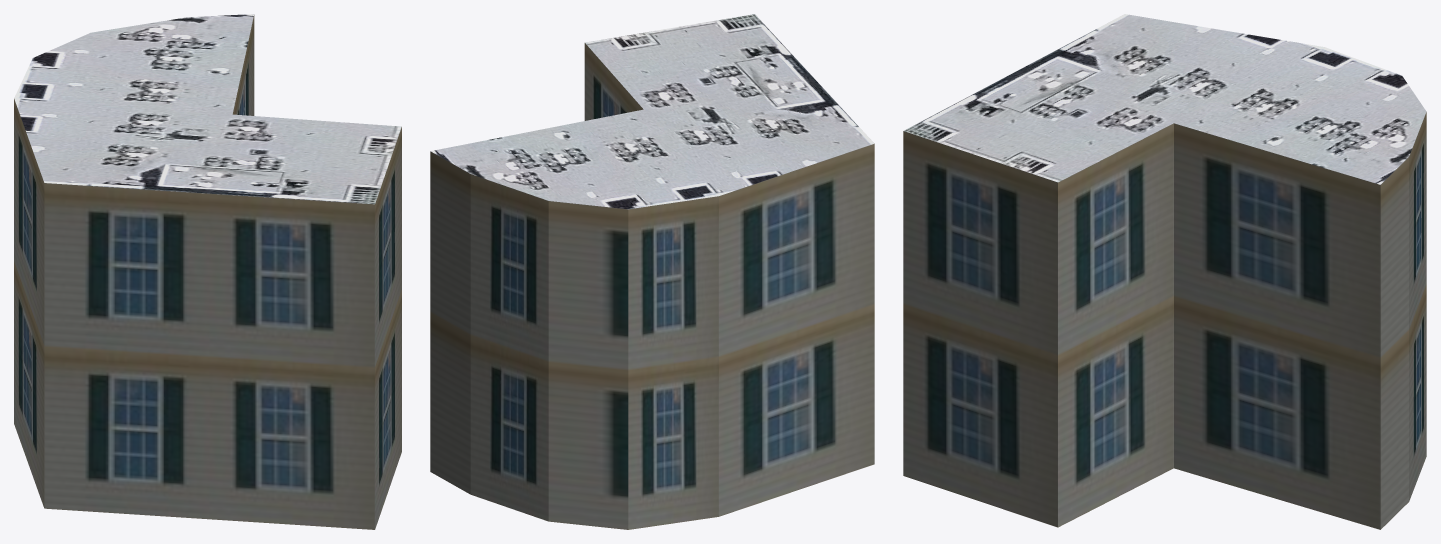
The model's file is ResTex__4326.fbx.
3 views of the same model, side by side, from view 1: azimuth 30°, elevation 25°; view 2: azimuth 150°, elevation 25°; view 3: azimuth 270°, elevation 25° (orthographic). The views are drawn at different scales.
Parts seen in each view (by area): view 1: CityEngineMaterial_7_m, CityEngineMaterial_m; view 2: CityEngineMaterial_7_m, CityEngineMaterial_m; view 3: CityEngineMaterial_7_m, CityEngineMaterial_m.
Part boxes in pixels (left/top/right/bottom): CityEngineMaterial_7_m: left=14, top=15, right=401, bottom=529; CityEngineMaterial_m: left=14, top=14, right=401, bottom=204; CityEngineMaterial_7_m: left=430, top=43, right=874, bottom=529; CityEngineMaterial_m: left=430, top=14, right=874, bottom=209; CityEngineMaterial_7_m: left=903, top=112, right=1426, bottom=529; CityEngineMaterial_m: left=904, top=14, right=1426, bottom=184.
Bounding box in the file's own units: 6.37 × 6 × 8.24.
Materials: 2 (2 with a texture image).
